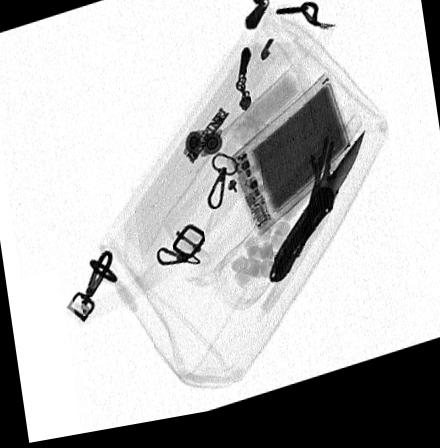Knife: (267, 140, 364, 296)
Powerbank: (221, 81, 352, 251)
Scissors: (304, 115, 362, 241)
